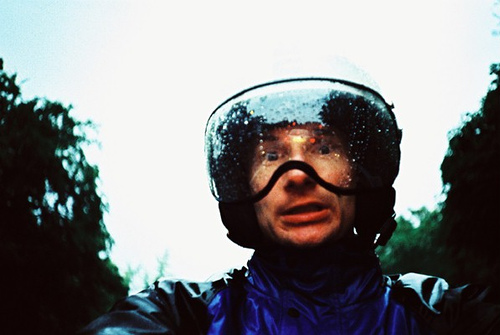helmet: (204, 59, 406, 213)
